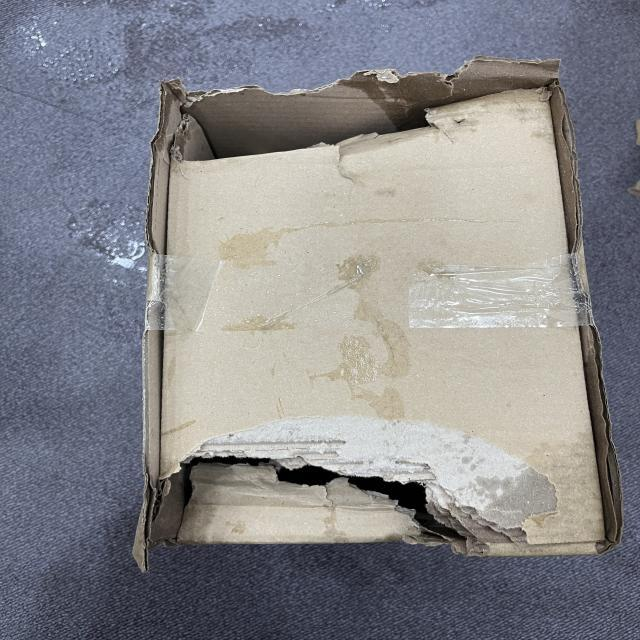hole: (140, 439, 514, 554), (172, 72, 548, 165)
